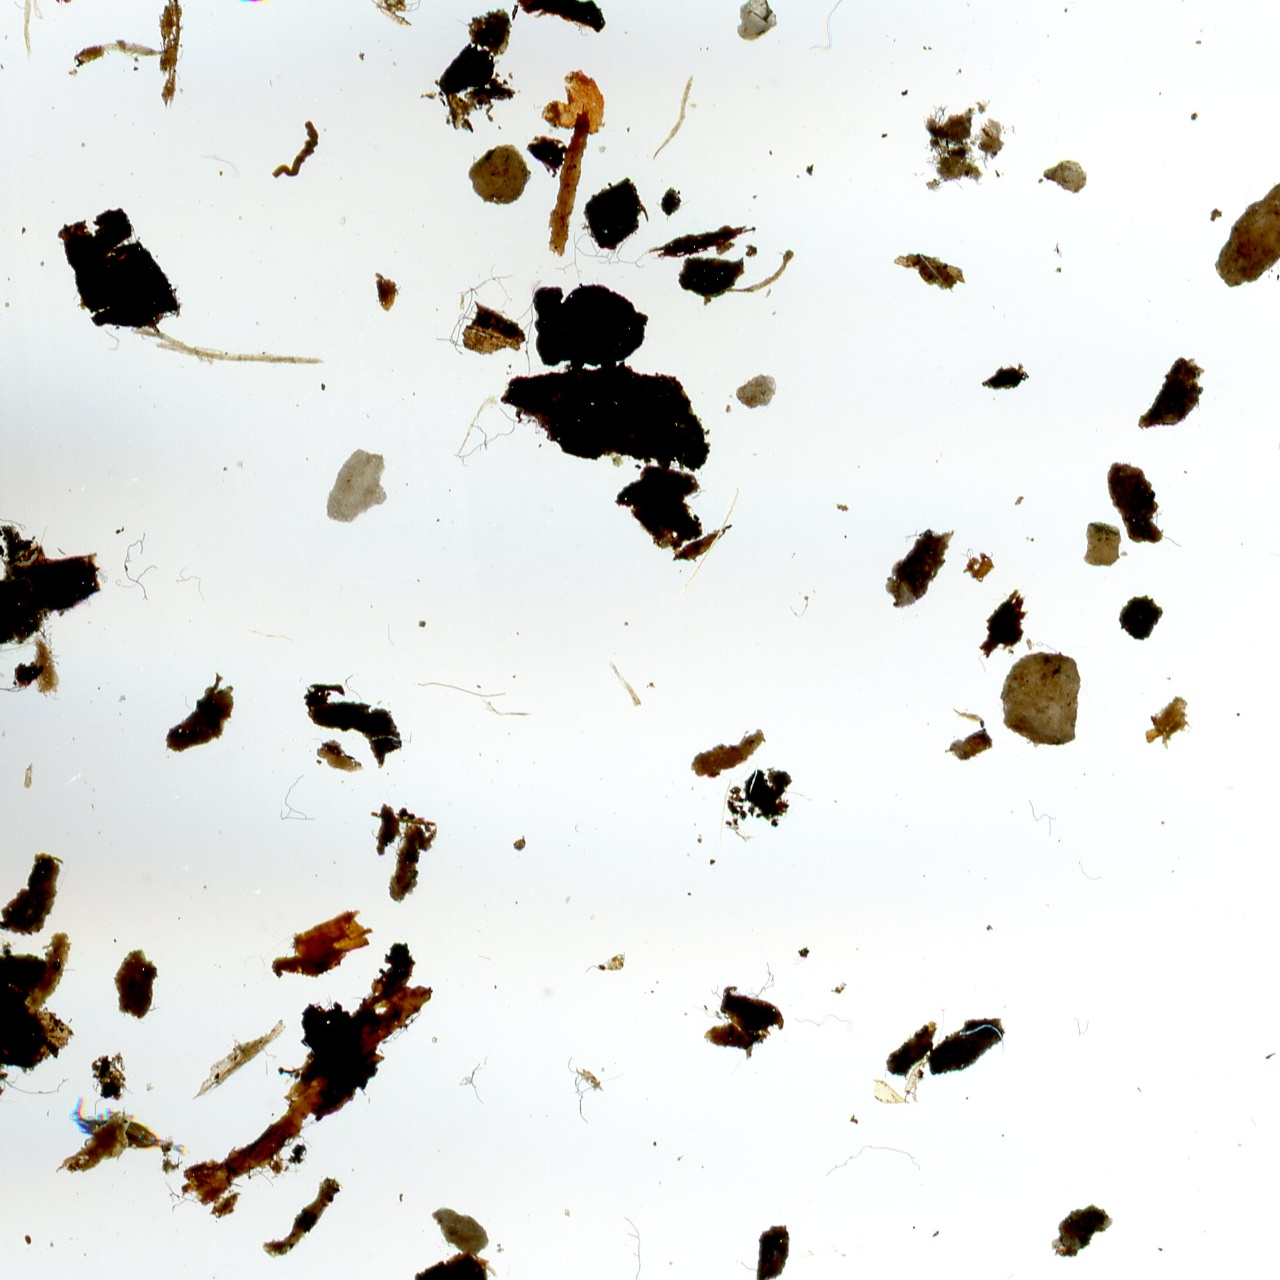arthropod: (62, 1090, 196, 1165), (157, 0, 284, 12)
